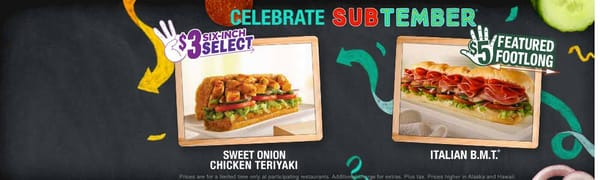soup: (194, 73, 300, 132)
